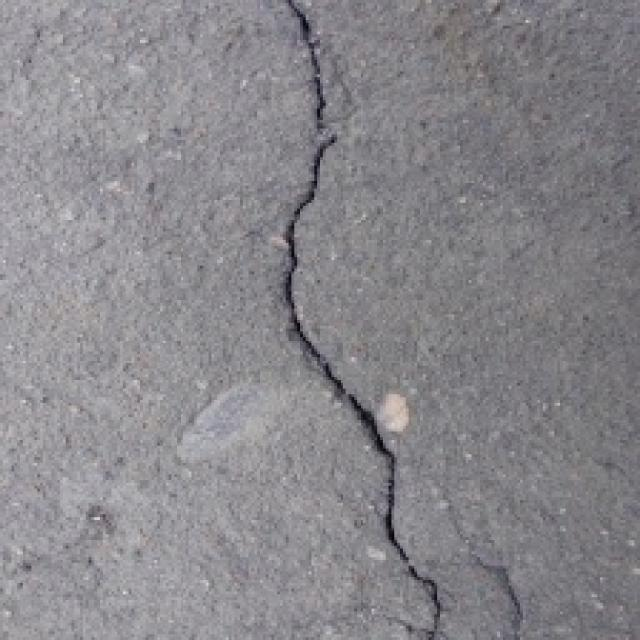SurfaceCrack: (246, 4, 466, 640)
